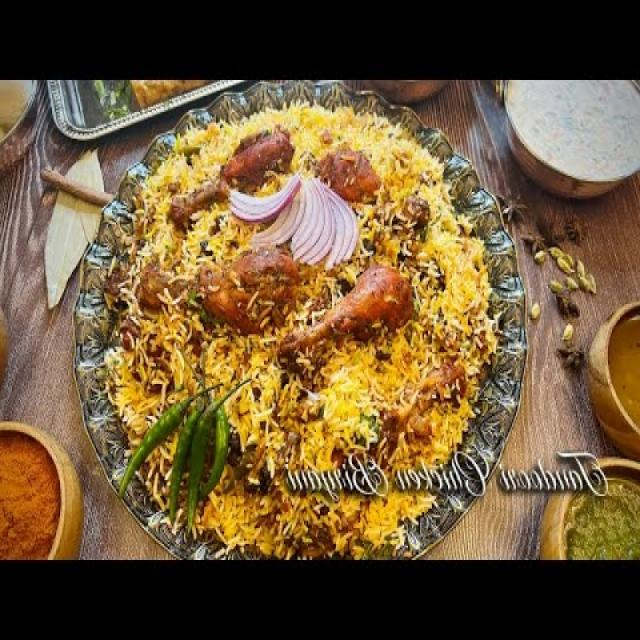Biryani: (98, 102, 504, 554)
